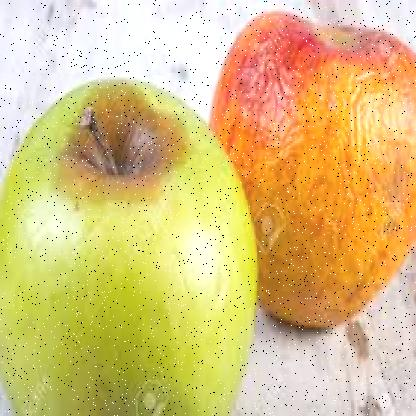damaged_apple: (2, 89, 254, 396), (219, 6, 414, 334)
